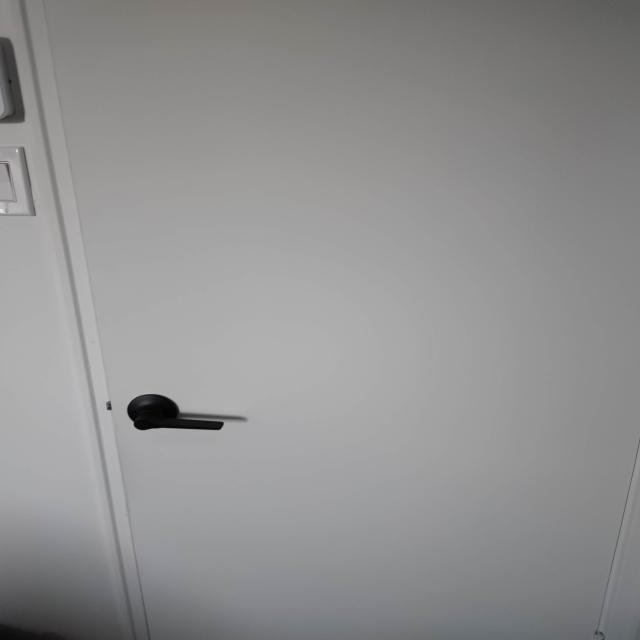door-handle: (127, 394, 223, 430)
